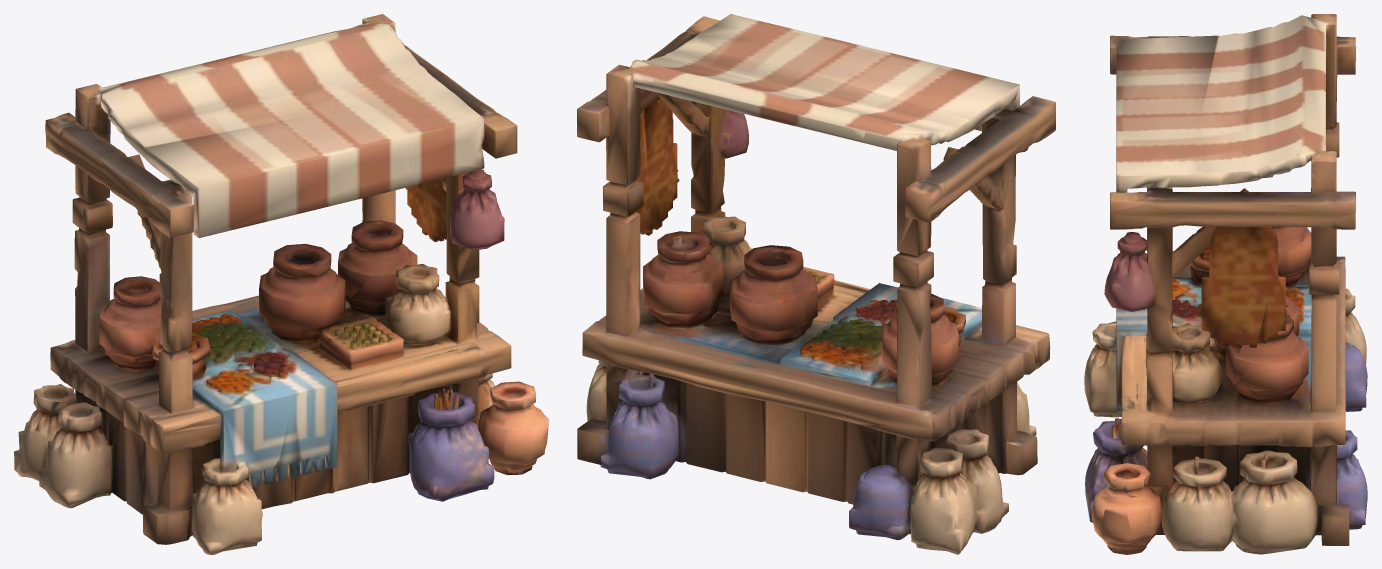
Rendered from stall_a.glb.
The picture shows the model from 3 angles, left to right: view 1: azimuth 30°, elevation 25°; view 2: azimuth 150°, elevation 25°; view 3: azimuth 270°, elevation 25°; orthographic projection. The views are drawn at different scales.
Parts seen in each view (by area): view 1: node_0; view 2: node_0; view 3: node_0.
Part boxes in pixels (x1=…): node_0: x1=14, y1=14, x2=548, y2=554; node_0: x1=577, y1=14, x2=1055, y2=554; node_0: x1=1084, y1=14, x2=1367, y2=554.
Size of the model in its own units: 0.8377 by 0.7471 by 0.5079.
Materials: 1 (1 with a texture image).
